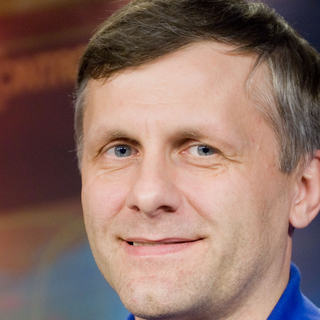eye: (174, 138, 231, 162), (95, 138, 144, 163)
